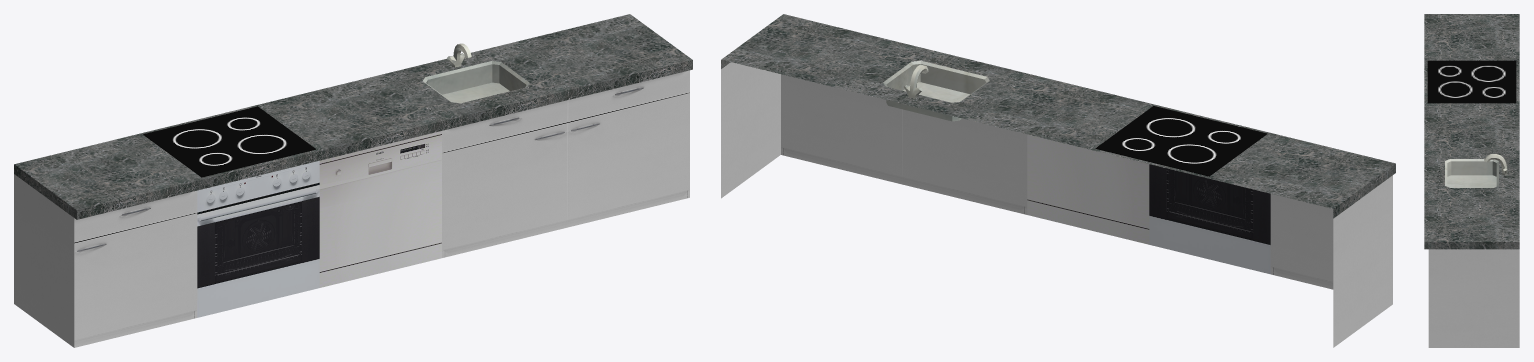
Rendered from KitchenUnit.FBX.
3 views of the same model, side by side, from view 1: azimuth 30°, elevation 25°; view 2: azimuth 150°, elevation 25°; view 3: azimuth 270°, elevation 25° (orthographic). The views are drawn at different scales.
Parts seen in each view (by area): view 1: KitchenUnit, KitchenUnitWork, KitchenUnitStove, KitchenSink; view 2: KitchenUnit, KitchenUnitWork, KitchenUnitStove, KitchenSink; view 3: KitchenUnitWork, KitchenUnit, KitchenUnitStove, KitchenSink.
Part boxes in pixels (bbox=[...]): KitchenUnit: bbox=[14, 70, 689, 347]; KitchenUnitWork: bbox=[14, 14, 692, 219]; KitchenUnitStove: bbox=[143, 106, 315, 177]; KitchenSink: bbox=[423, 43, 529, 103]; KitchenUnit: bbox=[721, 62, 1392, 347]; KitchenUnitWork: bbox=[721, 14, 1395, 218]; KitchenUnitStove: bbox=[1095, 106, 1266, 176]; KitchenSink: bbox=[883, 60, 989, 121]; KitchenUnitWork: bbox=[1424, 14, 1519, 249]; KitchenUnit: bbox=[1428, 249, 1519, 347]; KitchenUnitStove: bbox=[1427, 60, 1516, 103]; KitchenSink: bbox=[1445, 154, 1507, 187].
Bounding box in the file's own units: 218 × 55.96 × 38.46.
